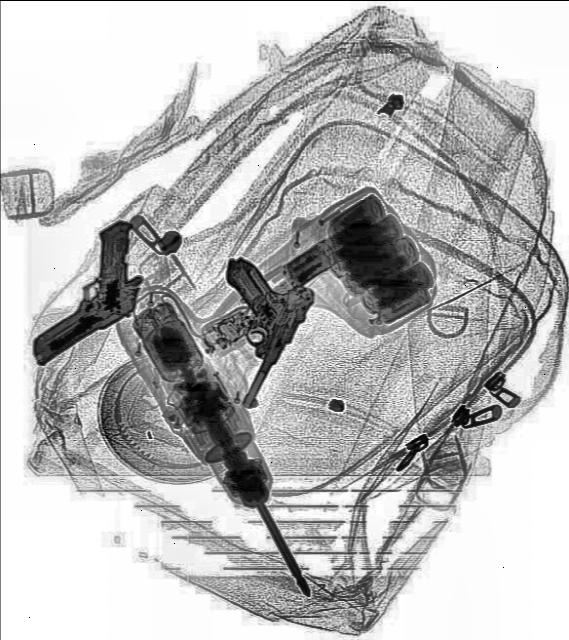Gun: (176, 244, 322, 410), (0, 216, 168, 360)
